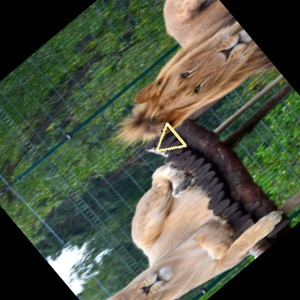triangle: (152, 120, 189, 154)
